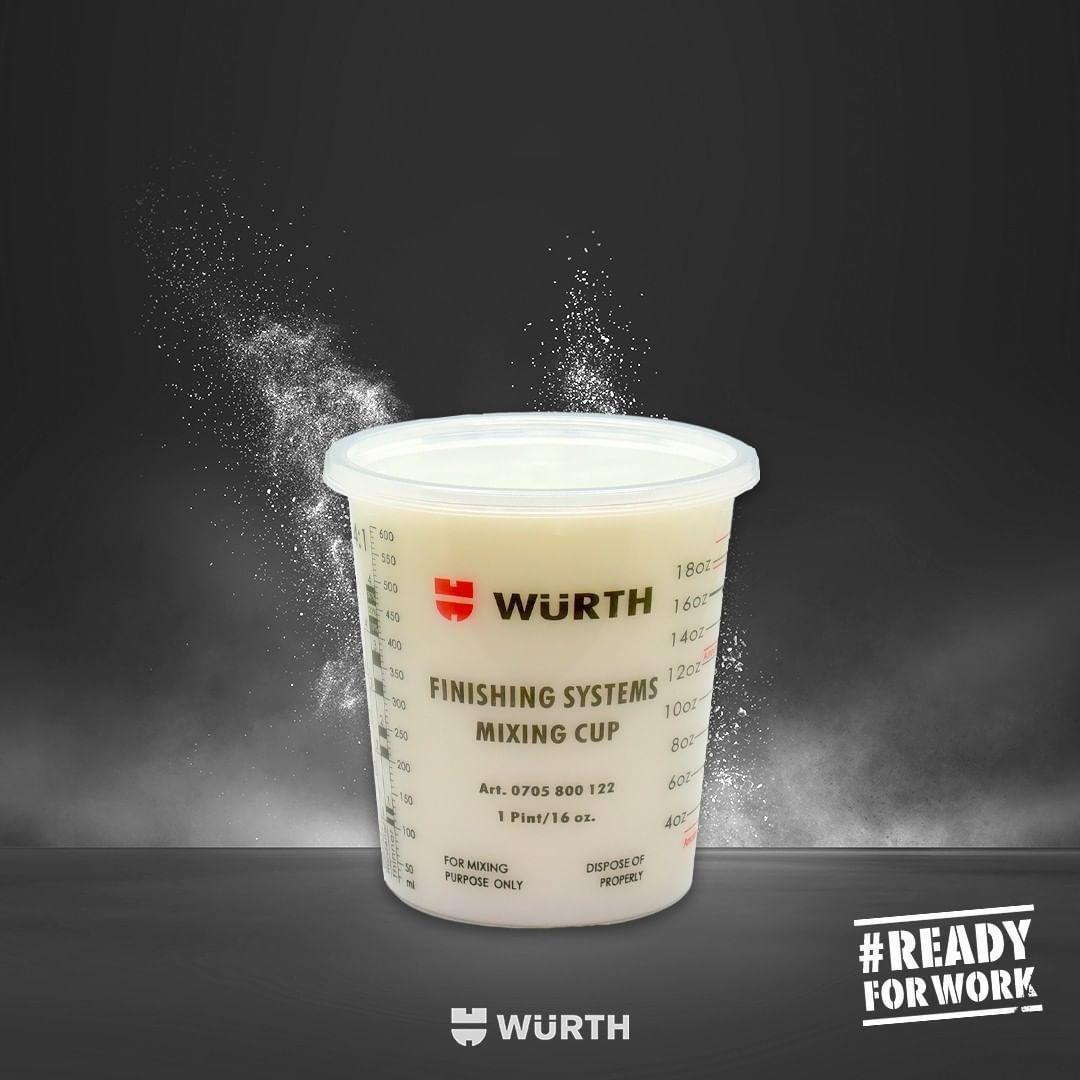cup-disposable: (319, 395, 770, 930)
